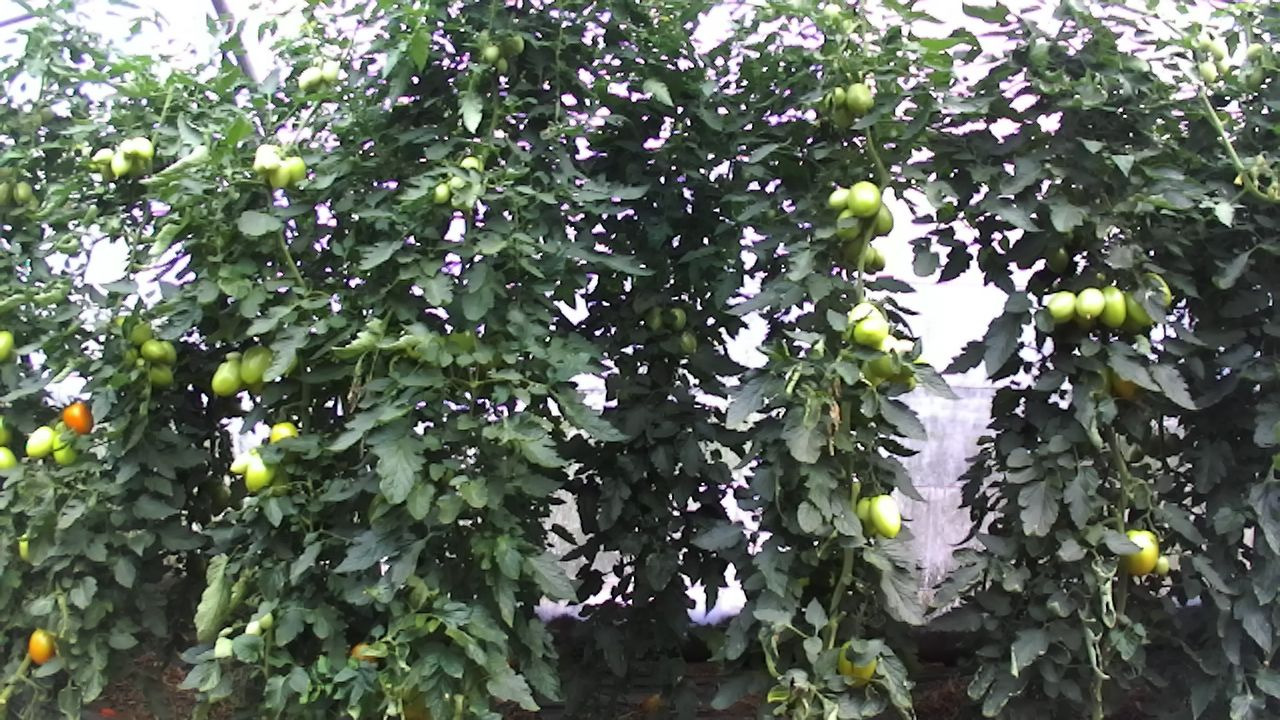tomato: (866, 492, 903, 541), (1125, 526, 1160, 577), (844, 179, 883, 220), (243, 454, 278, 494), (238, 345, 273, 385), (1099, 283, 1129, 329), (852, 314, 891, 349), (210, 357, 243, 398), (61, 399, 95, 437), (1045, 288, 1079, 324), (1072, 285, 1104, 321), (843, 80, 875, 115), (26, 628, 54, 668), (25, 423, 56, 459), (147, 358, 176, 390), (139, 336, 168, 367), (0, 326, 16, 365)
